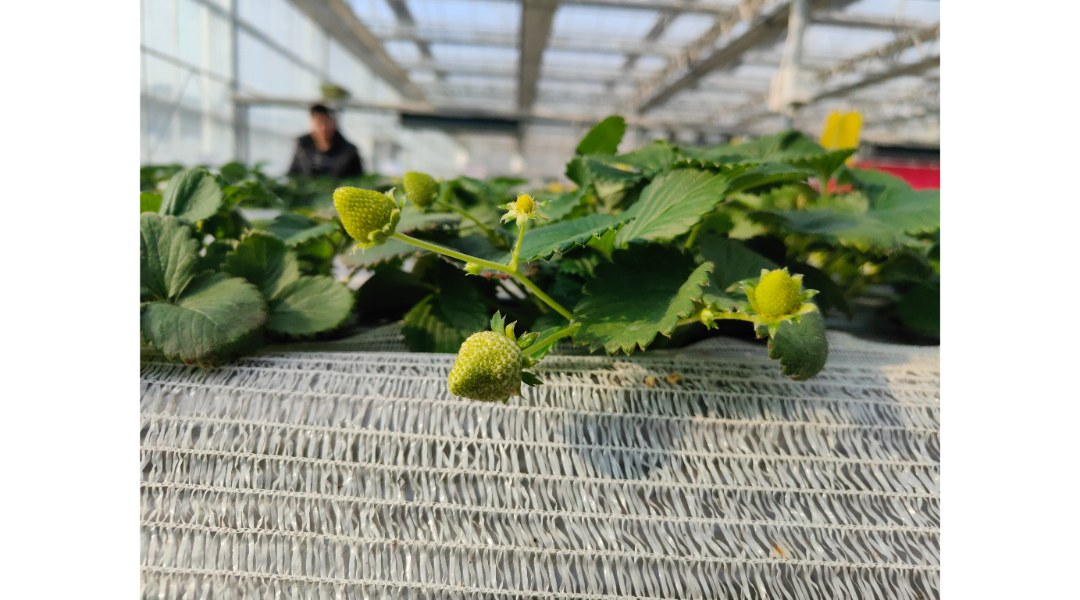berry: (442, 326, 528, 406), (736, 258, 817, 340), (325, 179, 398, 251), (396, 159, 449, 218)
flower: (500, 186, 550, 223)
strain: (390, 229, 504, 273), (514, 268, 576, 318), (511, 226, 525, 262)
